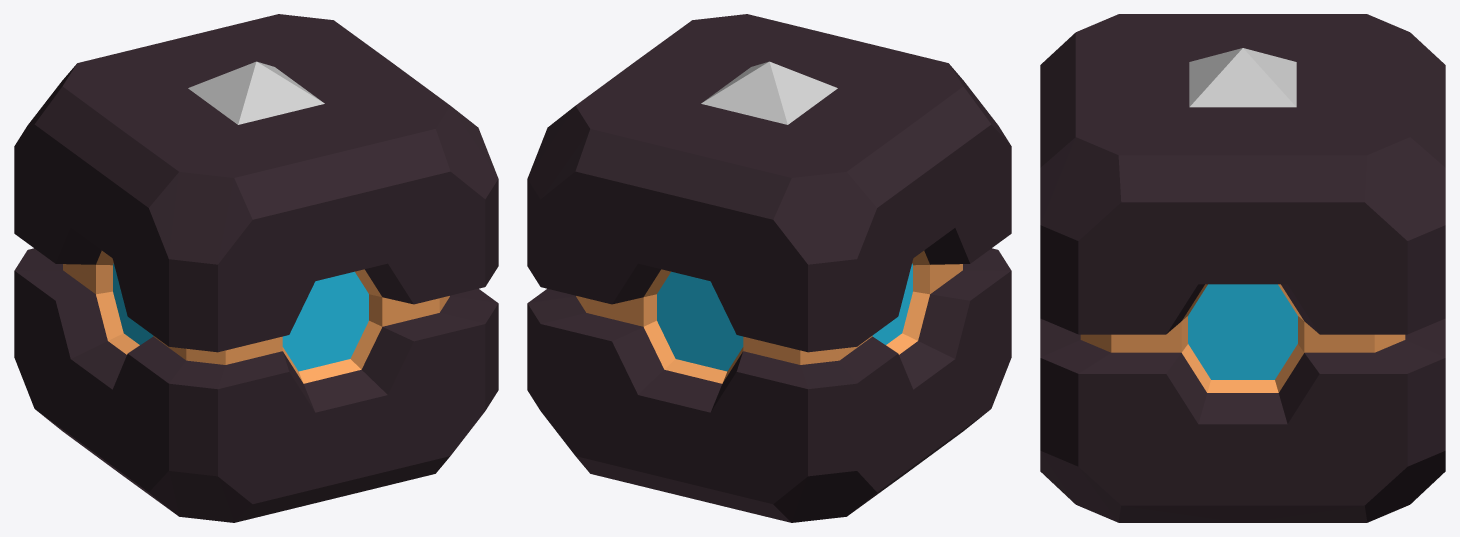
Rendered from YK_Small_Adjuster.obj.
3 renders of one model, left to right at view 1: azimuth 30°, elevation 25°; view 2: azimuth 150°, elevation 25°; view 3: azimuth 270°, elevation 25°, orthographic. The views are drawn at different scales.
Visible parts, largest first — view 1: BF_Block_111.001, BF_Block_111.000; view 2: BF_Block_111.001, BF_Block_111.000; view 3: BF_Block_111.001, BF_Block_111.000.
Boxes of the visible parts, left/top/right/bottom form: BF_Block_111.001: left=14, top=14, right=498, bottom=522; BF_Block_111.000: left=188, top=61, right=324, bottom=124; BF_Block_111.001: left=527, top=14, right=1011, bottom=522; BF_Block_111.000: left=701, top=61, right=837, bottom=124; BF_Block_111.001: left=1040, top=14, right=1445, bottom=522; BF_Block_111.000: left=1189, top=48, right=1296, bottom=107.
Size of the model in its own units: 1 by 1.2 by 1.
